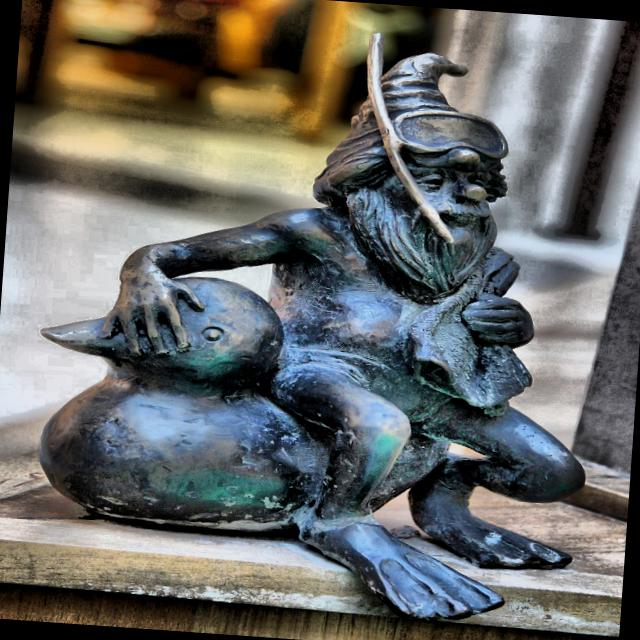Babelek_Chlaptus: (40, 36, 584, 619)
